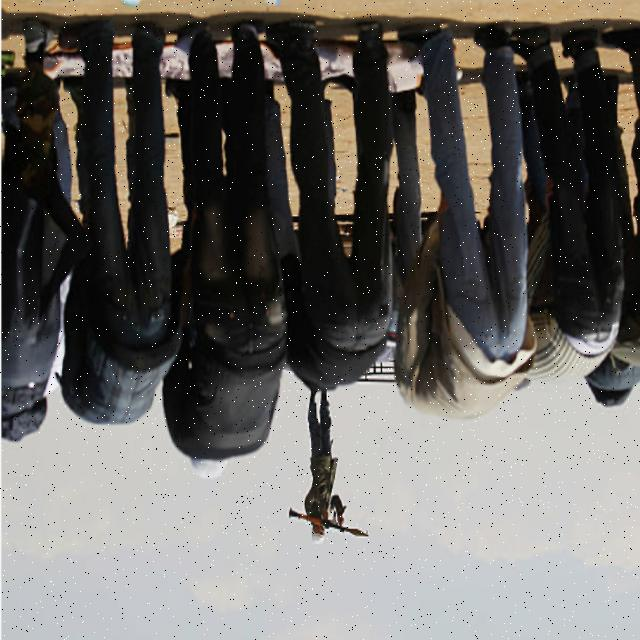bazooka: (291, 509, 372, 545)
